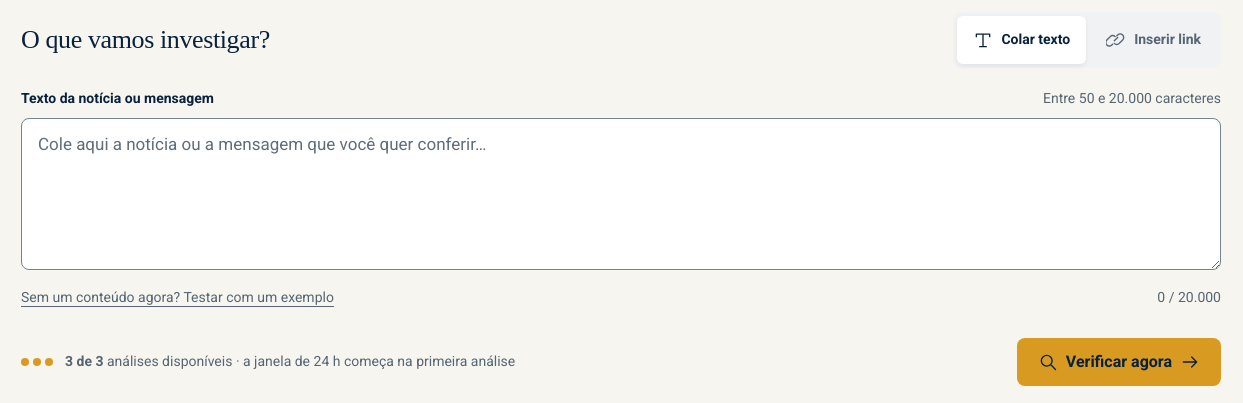
Test: texto de exemplo › preenche o campo, atualiza o contador e leva o foco ao texto
The width and height of the screenshot is (1243, 403).
Click the button "Sem um conteúdo agora? Testar com um exemplo" at point(177, 298), box [21,274,334,322]
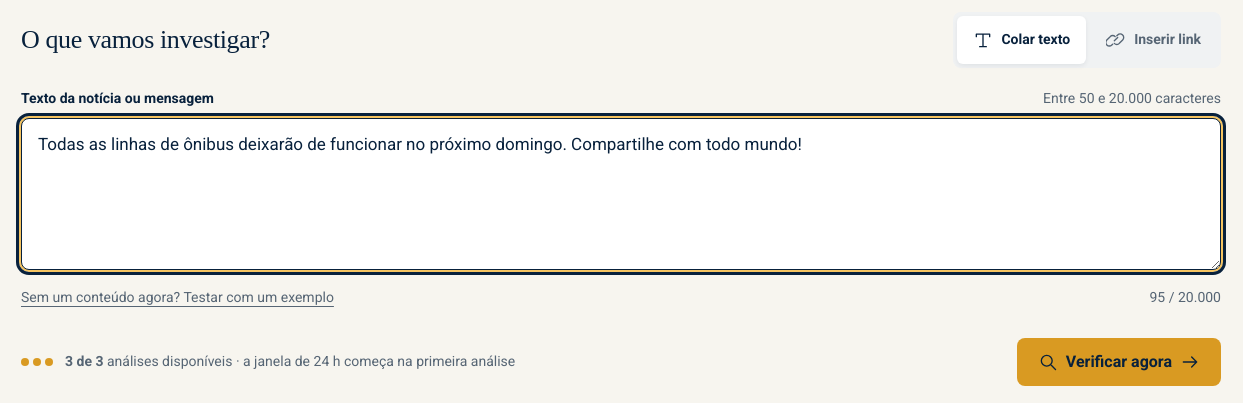
Check: the text box labelled "Texto da notícia ou mensagem" holds "Todas as linhas de ônibus deixarão de funcionar no próximo domingo. Compartilhe com todo mundo!", box [21,118,1221,270]
